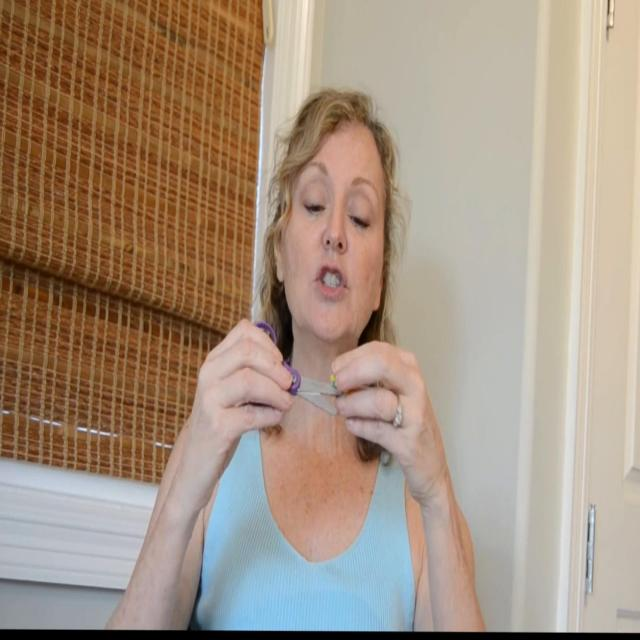scissor: (254, 322, 339, 414)
